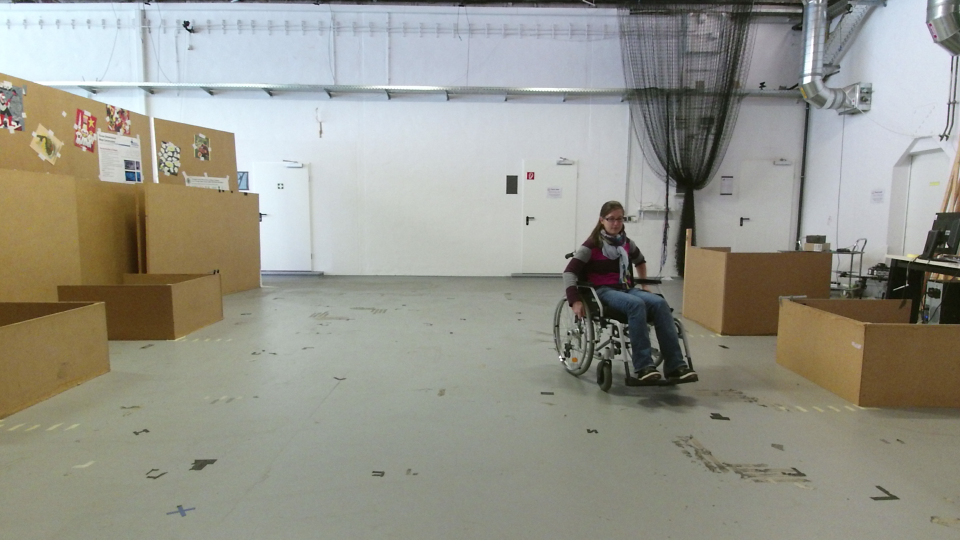wheelchair: (547, 196, 696, 395)
